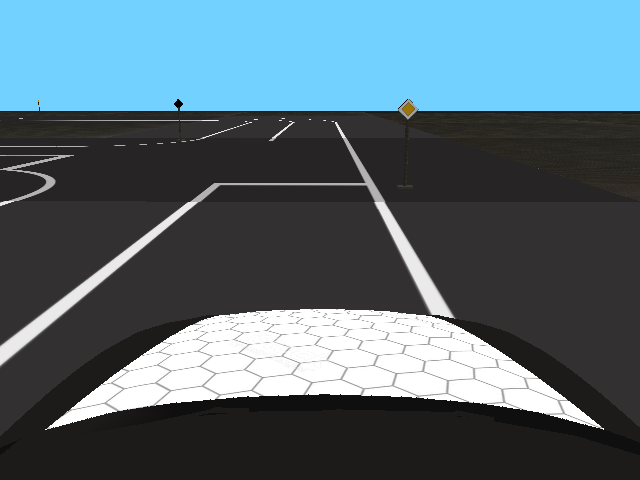yellow_light: (397, 99, 419, 120)
